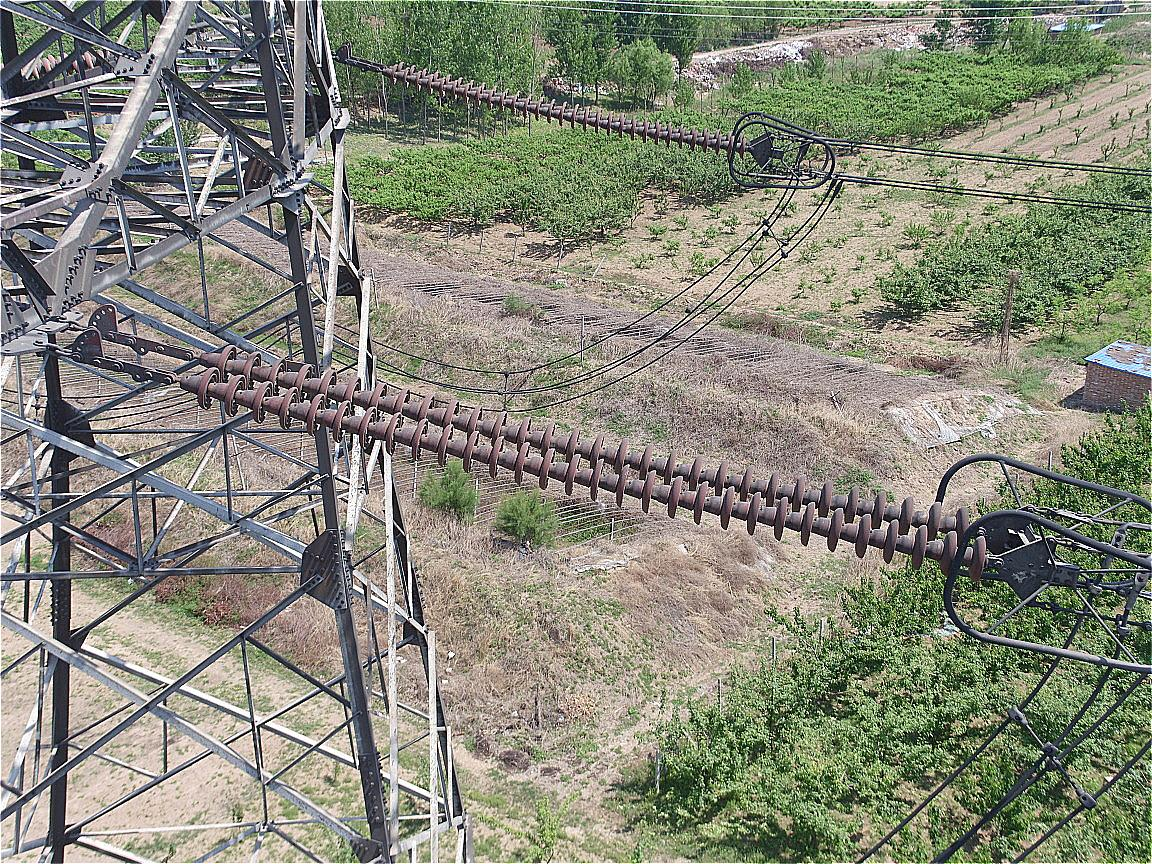insultor1: (198, 346, 989, 581), (389, 61, 735, 155)
